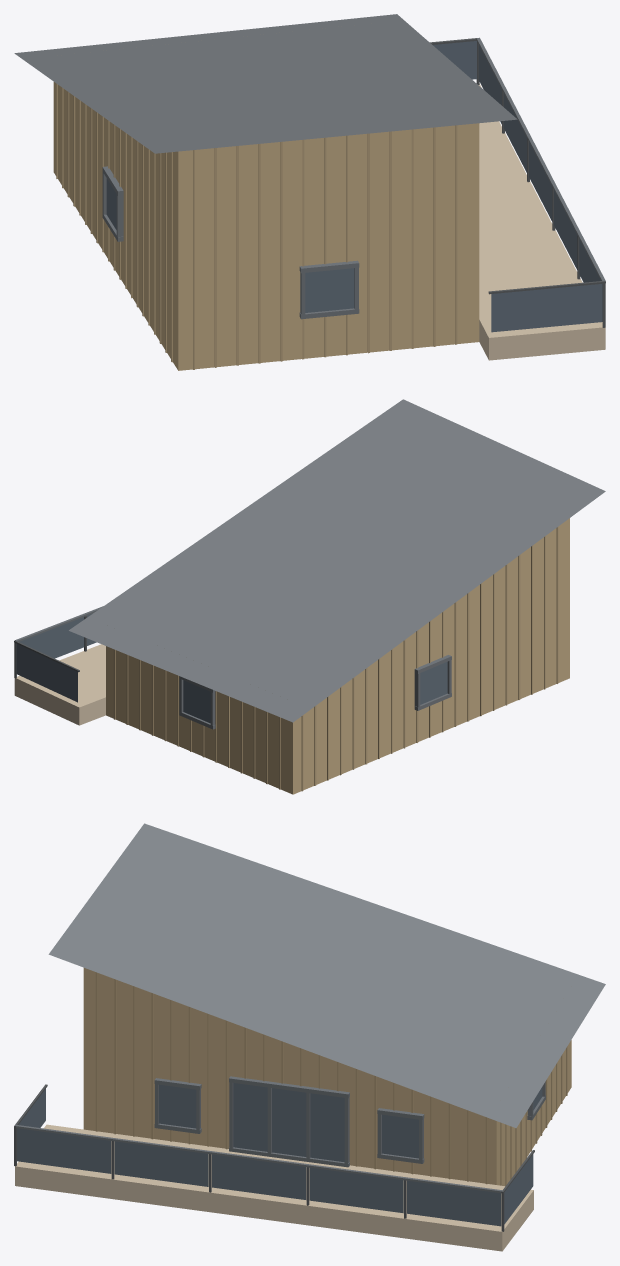
3 views of the same model, one above another, from view 1: azimuth 30°, elevation 25°; view 2: azimuth 150°, elevation 25°; view 3: azimuth 270°, elevation 25° (orthographic). The views are drawn at different scales.
Visible parts, largest first — view 1: door_wood, slate, larch, door_wood_p, window_glass_006, slate_dk, window_glass_015, pipe, window_glass_007, window_glass_002, window_glass_003, window_glass_004 (+2 smaller); view 2: slate, door_wood, door_wood_p, larch, window_glass_007, slate_dk, window_glass_005, window_glass_013, window_glass_014; view 3: slate, door_wood, larch, slate_dk, door_wood_p, window_glass_001, window_glass_004, window_glass_002, window_glass_005, window_glass_003, window_glass_008, window_glass_010 (+5 smaller).
Part boxes in pixels (x1=…): door_wood: x1=53, y1=82, x2=479, y2=370; slate: x1=14, y1=14, x2=517, y2=153; larch: x1=478, y1=84, x2=605, y2=360; door_wood_p: x1=56, y1=83, x2=457, y2=369; window_glass_006: x1=491, y1=283, x2=602, y2=332; slate_dk: x1=102, y1=38, x2=605, y2=319; window_glass_015: x1=305, y1=268, x2=354, y2=312; pipe: x1=430, y1=37, x2=605, y2=327; window_glass_007: x1=433, y1=41, x2=476, y2=79; window_glass_002: x1=554, y1=190, x2=577, y2=269; window_glass_003: x1=529, y1=142, x2=552, y2=221; window_glass_004: x1=503, y1=93, x2=526, y2=172; slate: x1=69, y1=399, x2=605, y2=722; door_wood: x1=106, y1=518, x2=569, y2=794; door_wood_p: x1=113, y1=527, x2=558, y2=791; larch: x1=14, y1=644, x2=105, y2=725; window_glass_007: x1=16, y1=643, x2=77, y2=702; slate_dk: x1=15, y1=606, x2=451, y2=729; window_glass_005: x1=19, y1=617, x2=84, y2=658; window_glass_013: x1=183, y1=680, x2=210, y2=723; window_glass_014: x1=420, y1=662, x2=447, y2=704; slate: x1=48, y1=823, x2=605, y2=1127; door_wood: x1=83, y1=968, x2=571, y2=1185; larch: x1=15, y1=1124, x2=533, y2=1251; slate_dk: x1=15, y1=1076, x2=545, y2=1193; door_wood_p: x1=95, y1=972, x2=567, y2=1185; window_glass_001: x1=17, y1=1128, x2=111, y2=1173; window_glass_004: x1=309, y1=1167, x2=403, y2=1213; window_glass_002: x1=114, y1=1141, x2=208, y2=1186; window_glass_005: x1=407, y1=1180, x2=501, y2=1226; window_glass_003: x1=212, y1=1154, x2=306, y2=1199; window_glass_008: x1=233, y1=1083, x2=267, y2=1151; window_glass_010: x1=310, y1=1093, x2=344, y2=1162.
Size of the model in its own units: 12.31 by 5.17 by 13.67.
